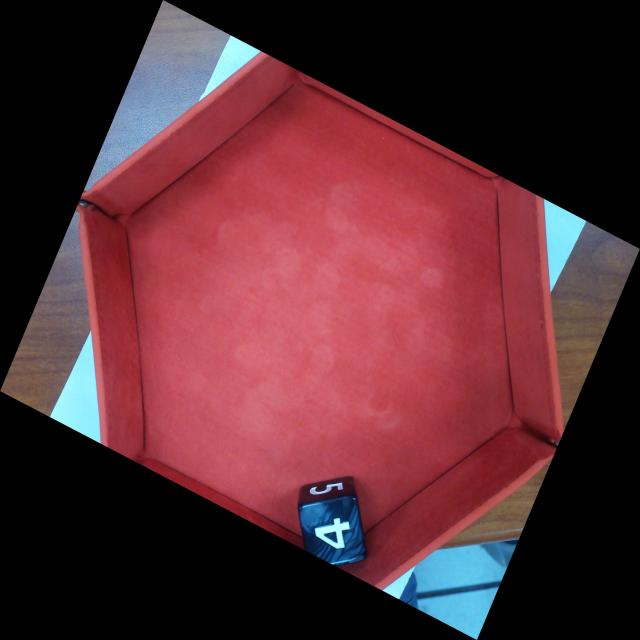dice: (299, 494, 366, 564)
